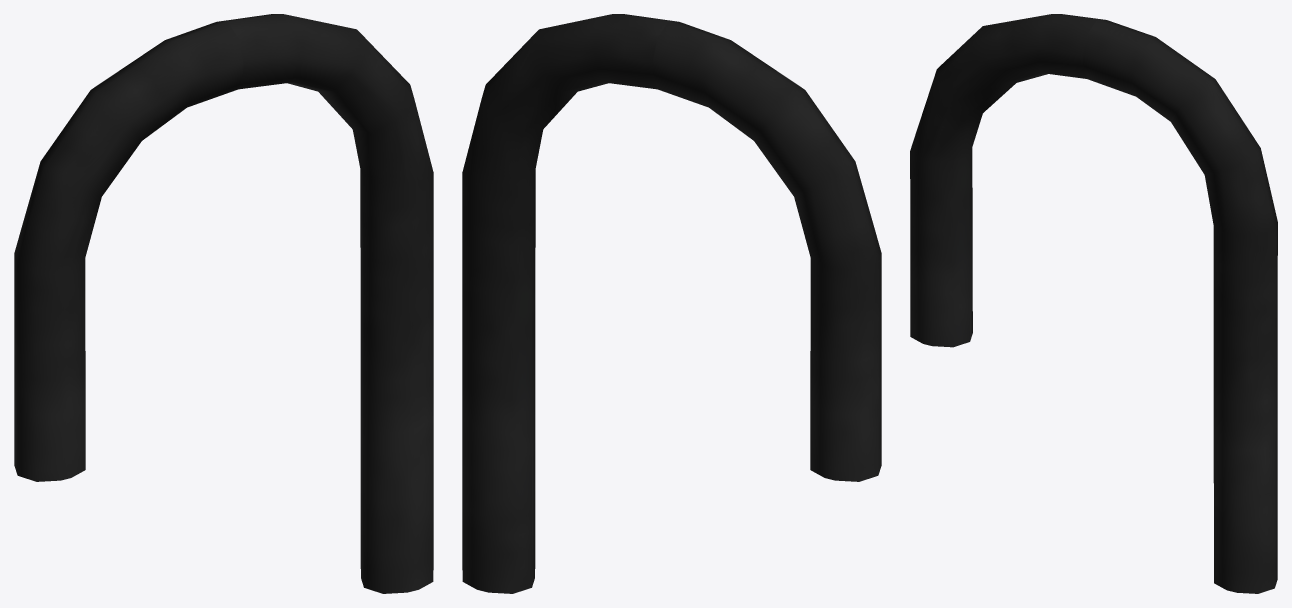
Rendered from padlock_2_shackle.fbx.
3 views of the same model, side by side, from view 1: azimuth 30°, elevation 25°; view 2: azimuth 150°, elevation 25°; view 3: azimuth 330°, elevation 25° (orthographic). The views are drawn at different scales.
Visible parts, largest first — view 1: padlock_2_shackle; view 2: padlock_2_shackle; view 3: padlock_2_shackle.
Part boxes in pixels (x1,y1,x2,y2): padlock_2_shackle: (14,14,433,593); padlock_2_shackle: (462,14,881,593); padlock_2_shackle: (910,14,1277,593).
Size of the model in its own units: 0.0686 by 0.0091 by 0.0951.
